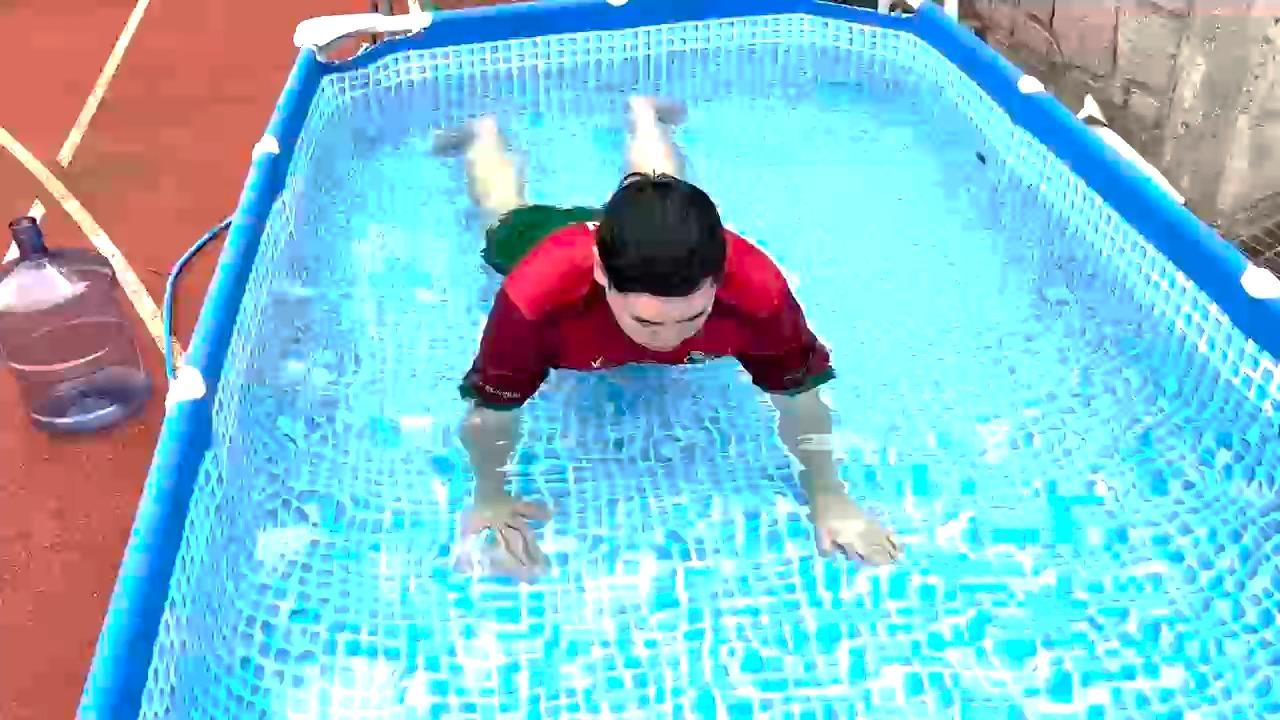Drowning: (375, 69, 931, 610)
